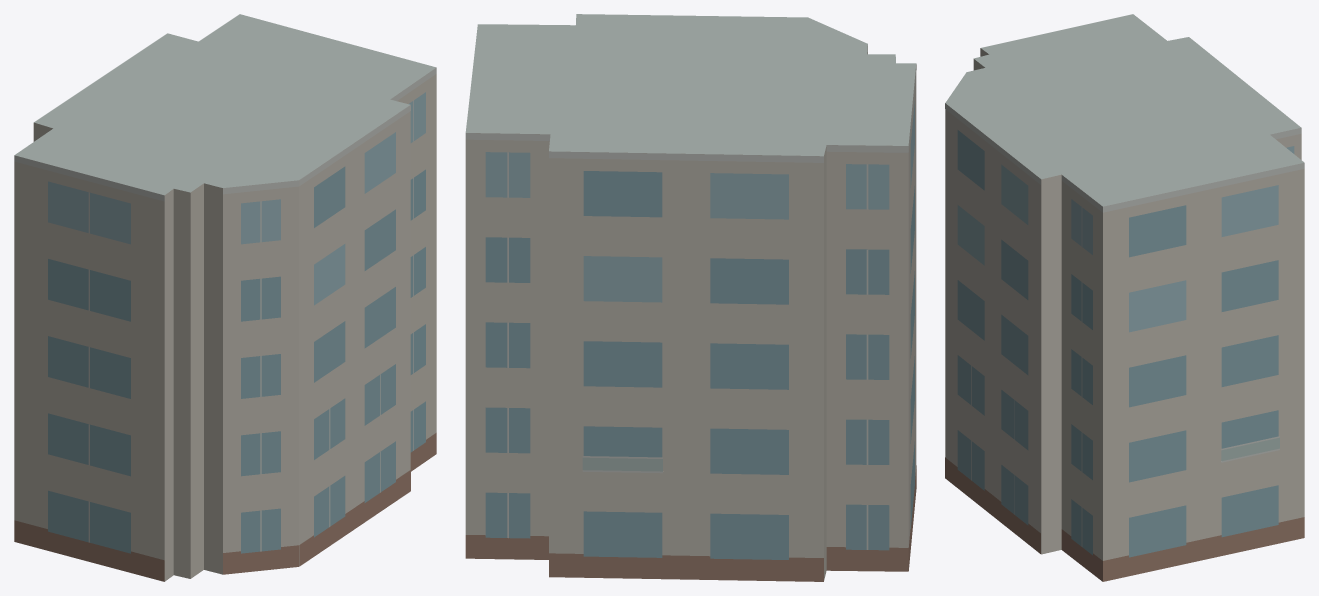
File: survey-upis-32515130.glb
3 views of the same model, side by side, from view 1: azimuth 30°, elevation 25°; view 2: azimuth 150°, elevation 25°; view 3: azimuth 270°, elevation 25° (orthographic). The views are drawn at different scales.
Parts seen in each view (by area): view 1: survey-upis-32515130.tmp; view 2: survey-upis-32515130.tmp; view 3: survey-upis-32515130.tmp.
Part boxes in pixels (<box>): survey-upis-32515130.tmp: <box>14,14,436,581</box>; survey-upis-32515130.tmp: <box>465,14,916,581</box>; survey-upis-32515130.tmp: <box>945,14,1304,581</box>.
Bounding box in the file's own units: 16.8 × 15.25 × 13.25.
